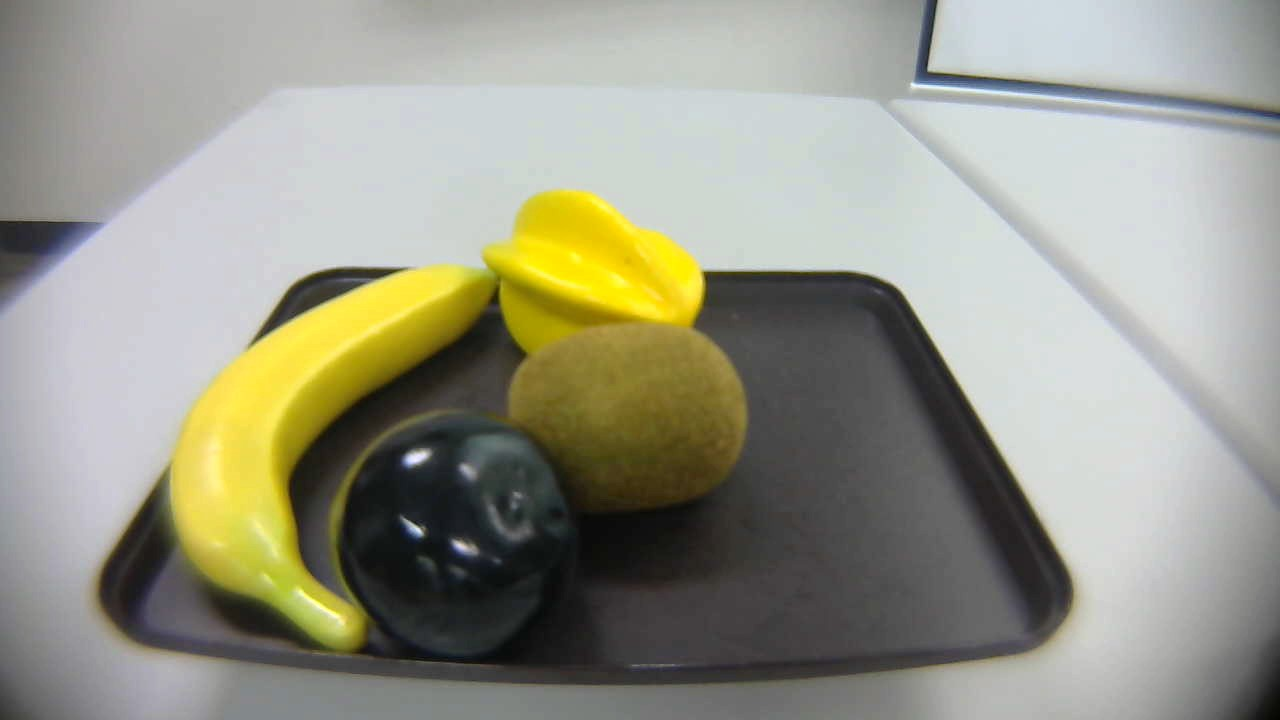banana: (163, 256, 490, 666)
kiwi fruit: (507, 323, 758, 514)
mangosteen: (330, 404, 583, 661)
star fruit: (488, 186, 717, 373)
